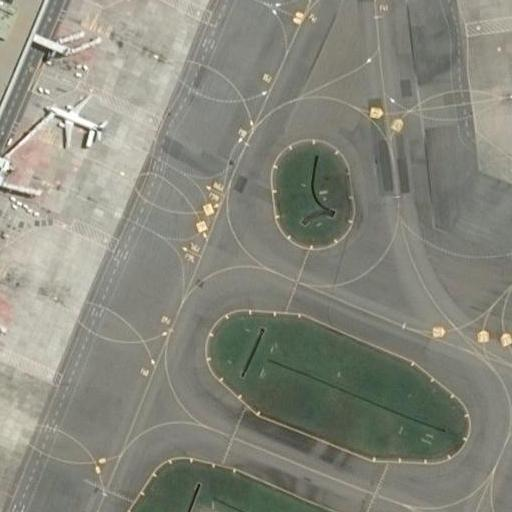Aircraft: (43, 94, 106, 147)
